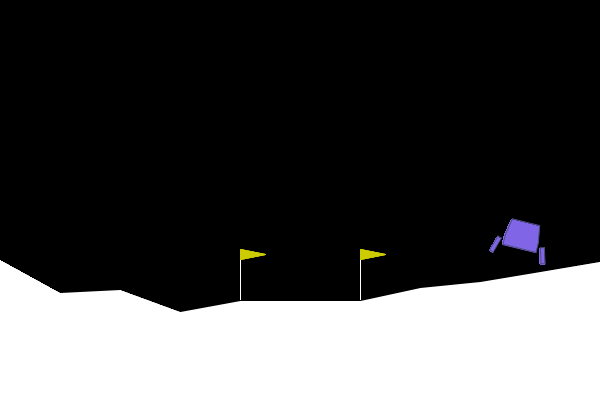lander: (487, 213, 555, 267)
